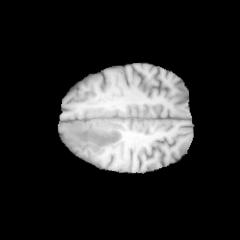glioma: (67, 119, 123, 148)
